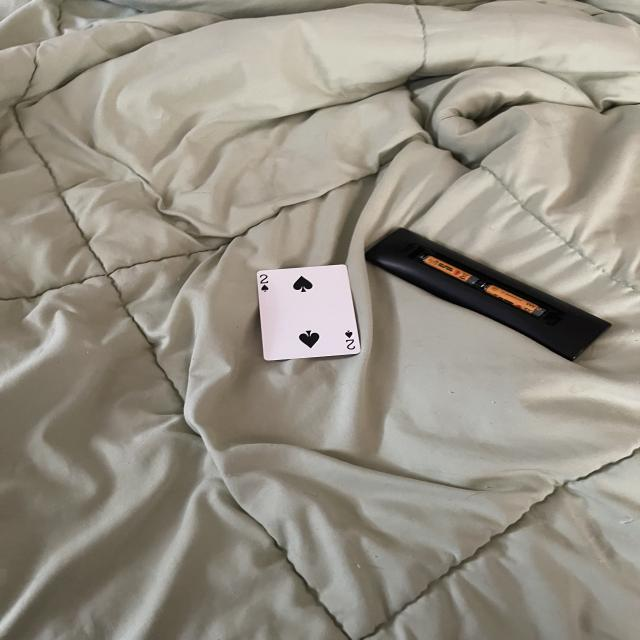2 of spades: (260, 263, 366, 362)
